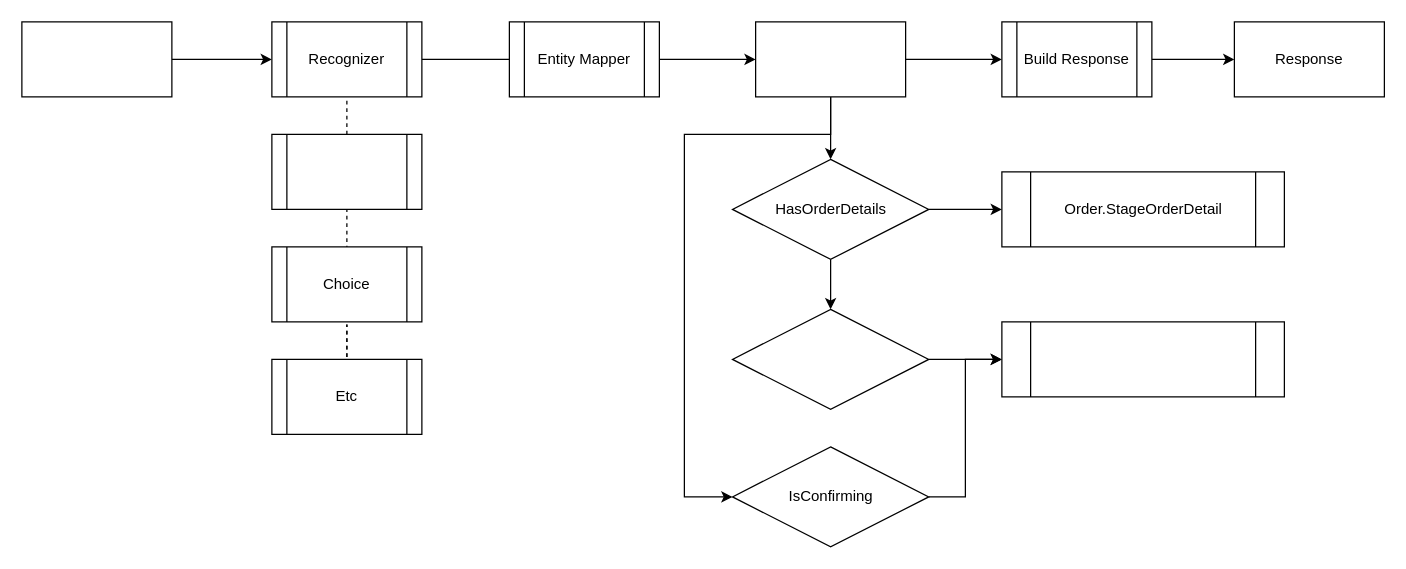
This 1406x569 diagram has some shape labels left out. Here are the shapes that lost their labels. From the top down, the centre of each, then its label:
point 96,59: Message
point 830,59: MessageResult
point 346,171: Number
point 830,358: IsConfidend
point 1142,359: Order.AddOrderDetail
